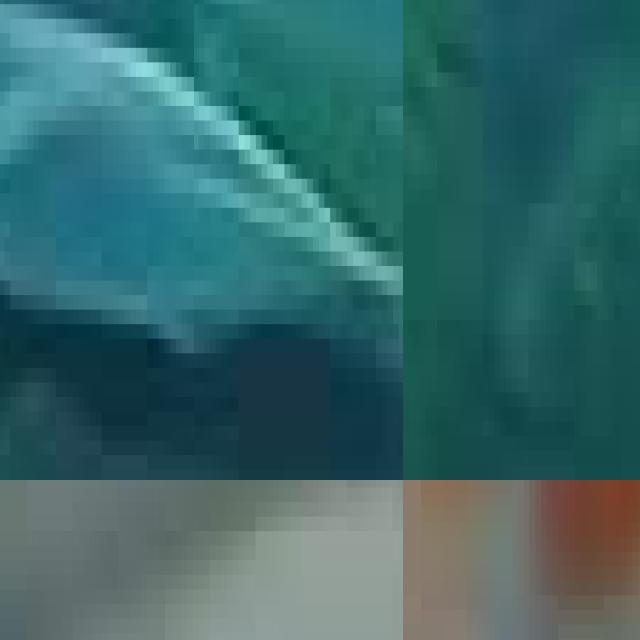fish: (0, 0, 403, 480)
